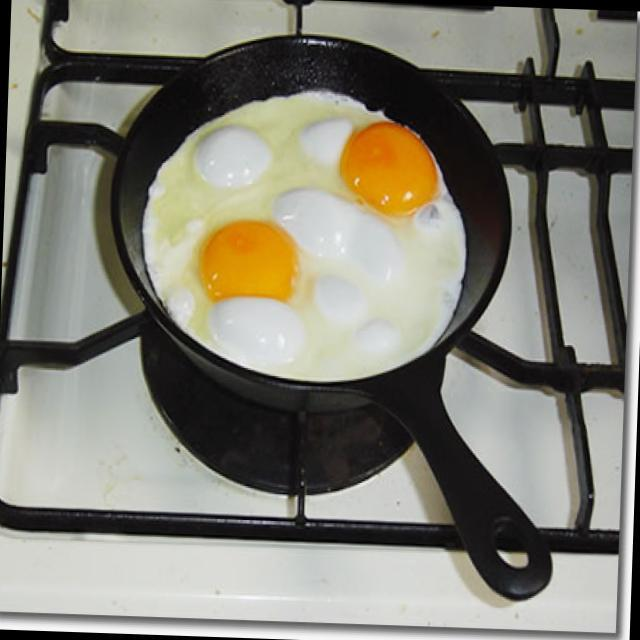Egg: (298, 90, 487, 390), (148, 80, 326, 385)
